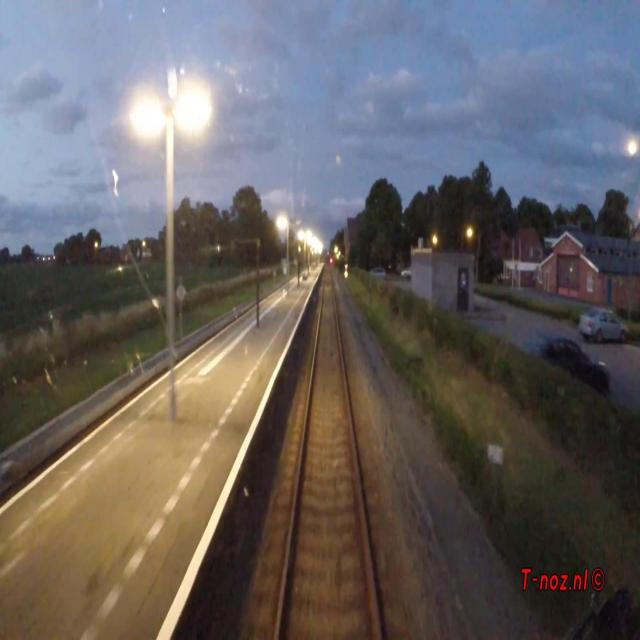rail-track: (278, 263, 377, 639)
